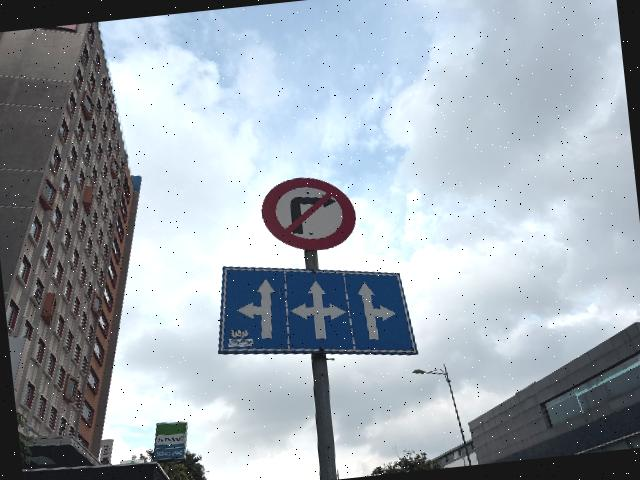cam-re-trai: (256, 170, 361, 258)
